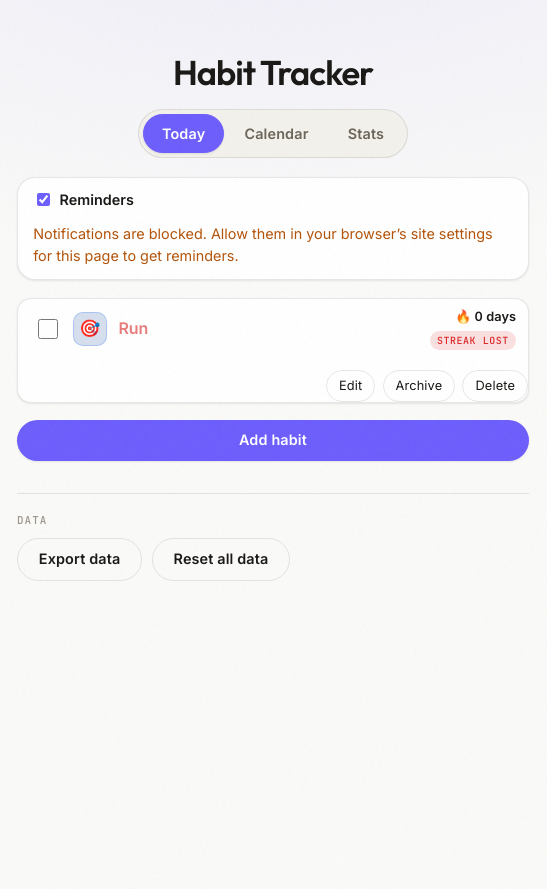
Test case: App › fixes a forgotten past day from the calendar and updates the streak
Click the button "Calendar": x=277, y=134 [226, 114, 327, 153]
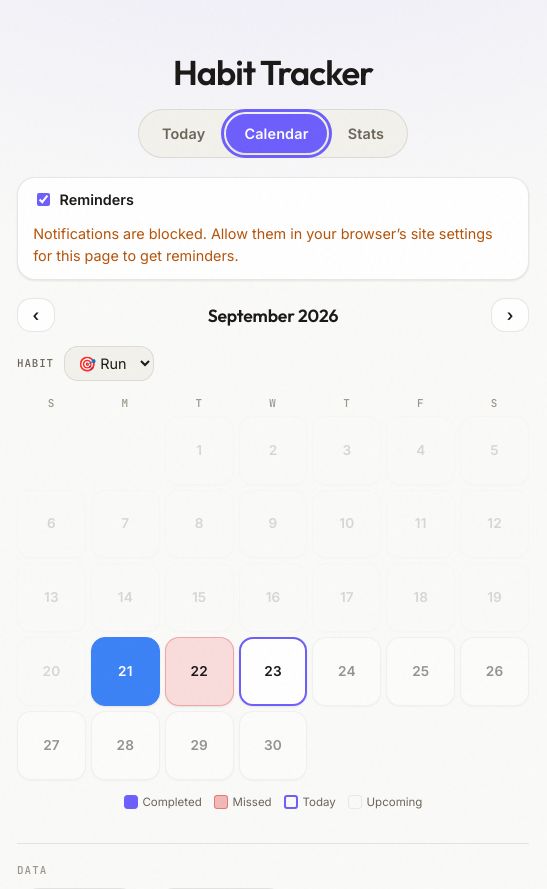
Click the button named "September 22, missed": x=199, y=672 [165, 637, 234, 706]
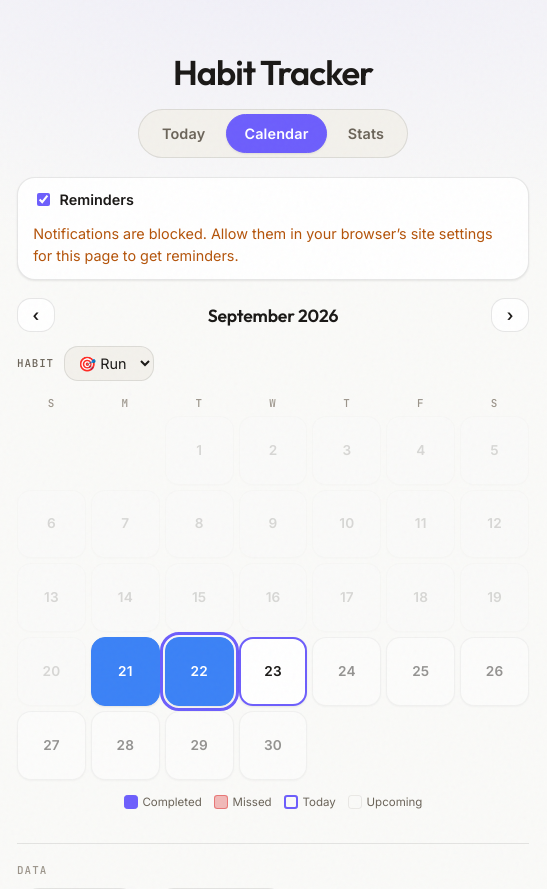
expect the button named "September 22, completed" is pressed: met, box [165, 637, 234, 706]
// Back on Today: the streak now counts 21+22, alive through yesterday.
Click the button "Today": x=184, y=134 [143, 114, 224, 153]
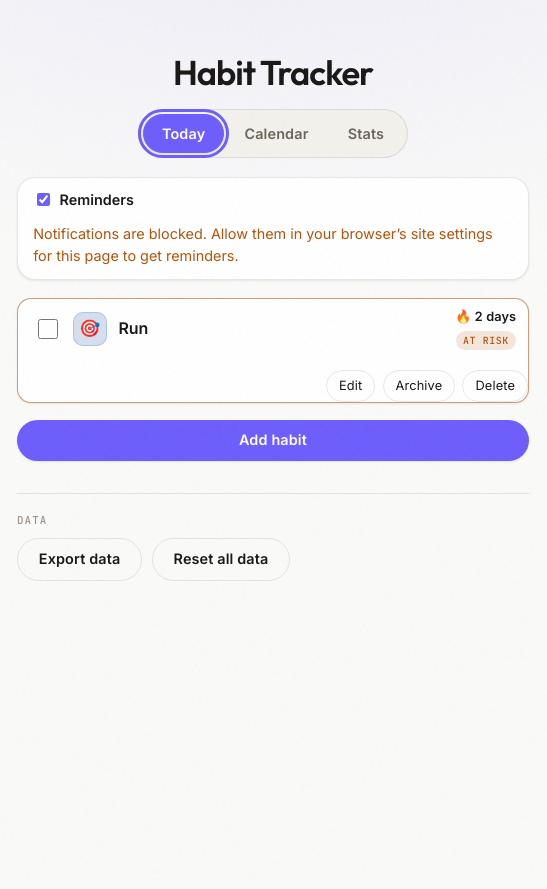
expect the text "🔥 2 days" is shown: met, box [455, 307, 516, 327]
expect the text "at risk" is shown: met, box [456, 331, 516, 350]
